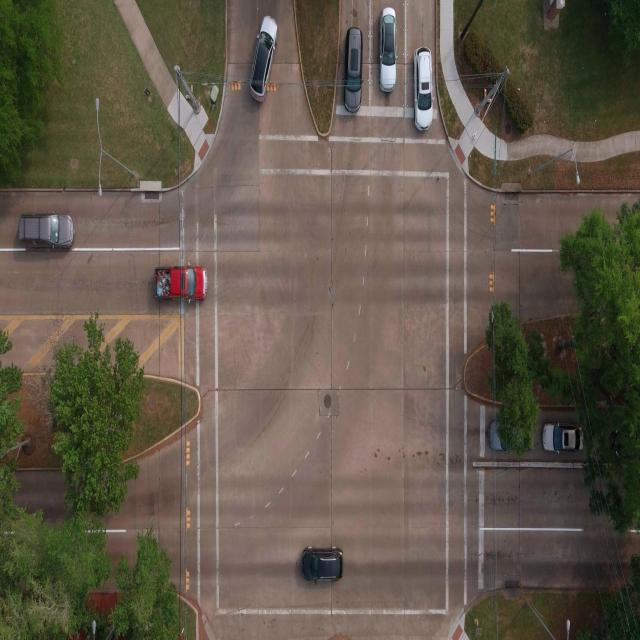Car: (11, 200, 86, 265), (242, 12, 282, 107), (338, 18, 371, 132), (378, 1, 400, 108), (544, 412, 586, 466), (416, 44, 438, 139), (289, 548, 339, 586), (487, 422, 533, 458)
Truck: (147, 248, 214, 308)
